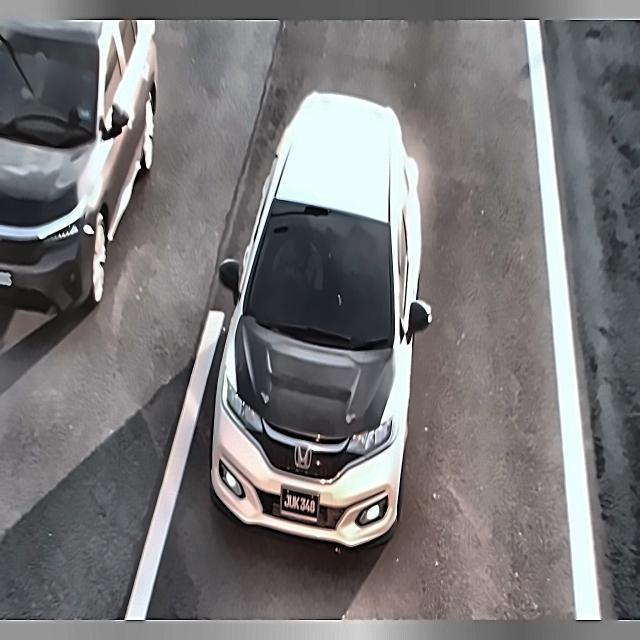car: (271, 473, 323, 527), (0, 263, 14, 296)
